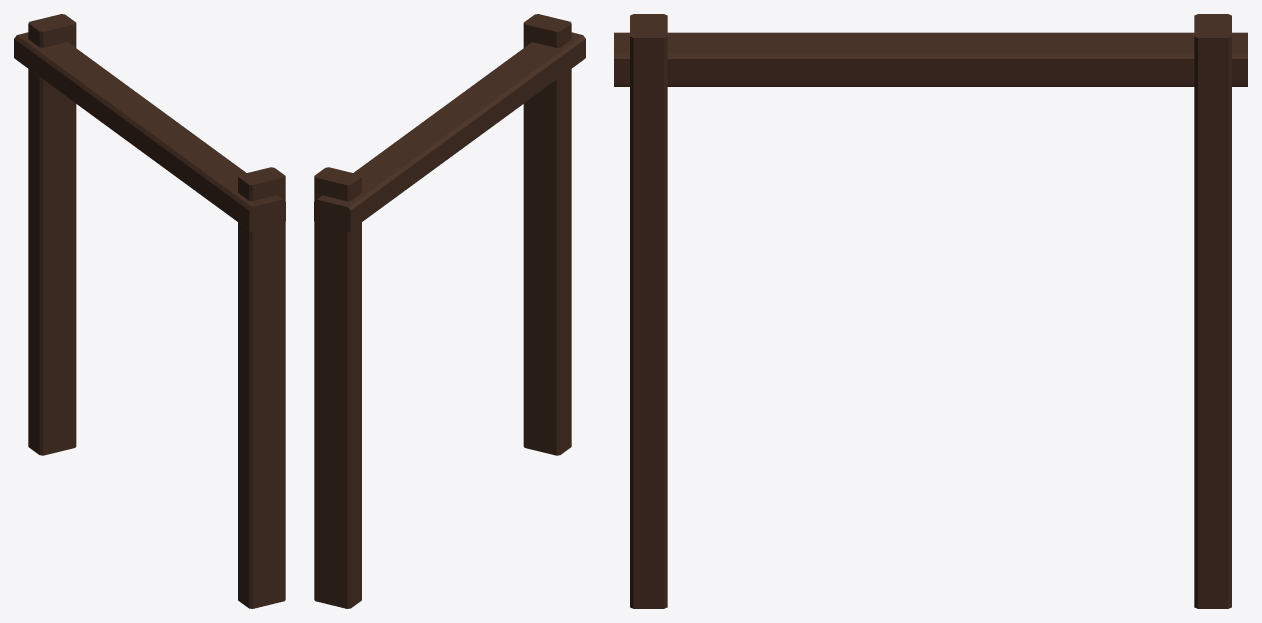
The model's file is SM_Frame.fbx.
3 renders of one model, left to right at view 1: azimuth 30°, elevation 25°; view 2: azimuth 150°, elevation 25°; view 3: azimuth 270°, elevation 25°, orthographic. The views are drawn at different scales.
Visible parts, largest first — view 1: SM_Frame; view 2: SM_Frame; view 3: SM_Frame.
Boxes of the visible parts, box(x1,y1,x2,y2) form: SM_Frame: box(14, 14, 285, 608); SM_Frame: box(314, 14, 585, 608); SM_Frame: box(614, 14, 1247, 608).
Size of the model in its own units: 0.3902 by 3.61 by 3.63.
